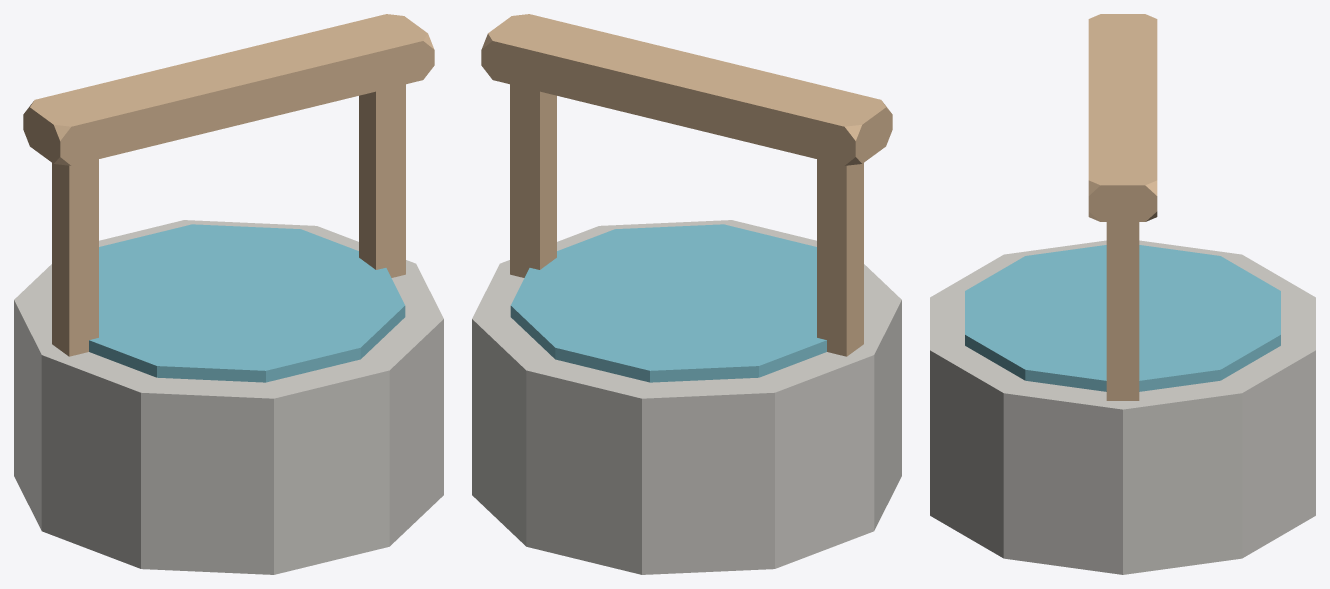
Rendered from well.glb.
The picture shows the model from 3 angles, left to right: view 1: azimuth 30°, elevation 25°; view 2: azimuth 150°, elevation 25°; view 3: azimuth 270°, elevation 25°; orthographic projection. The views are drawn at different scales.
Visible parts, largest first — view 1: root_m0, root_m1, root_m4, root_m3, root_m2; view 2: root_m0, root_m1, root_m4, root_m3, root_m2; view 3: root_m0, root_m1, root_m4, root_m2.
Part boxes in pixels (x1=…): root_m0: x1=14, y1=220, x2=443, y2=574; root_m1: x1=89, y1=224, x2=405, y2=382; root_m4: x1=23, y1=14, x2=434, y2=165; root_m3: x1=52, y1=159, x2=98, y2=356; root_m2: x1=359, y1=84, x2=405, y2=277; root_m0: x1=472, y1=220, x2=901, y2=574; root_m1: x1=510, y1=224, x2=826, y2=382; root_m4: x1=481, y1=14, x2=892, y2=165; root_m3: x1=817, y1=159, x2=863, y2=356; root_m2: x1=510, y1=84, x2=556, y2=277; root_m0: x1=930, y1=240, x2=1315, y2=574; root_m1: x1=965, y1=245, x2=1280, y2=391; root_m4: x1=1088, y1=14, x2=1157, y2=221; root_m2: x1=1106, y1=222, x2=1139, y2=400.
Bounding box in the file's own units: 1.2 × 1.27 × 1.14.
